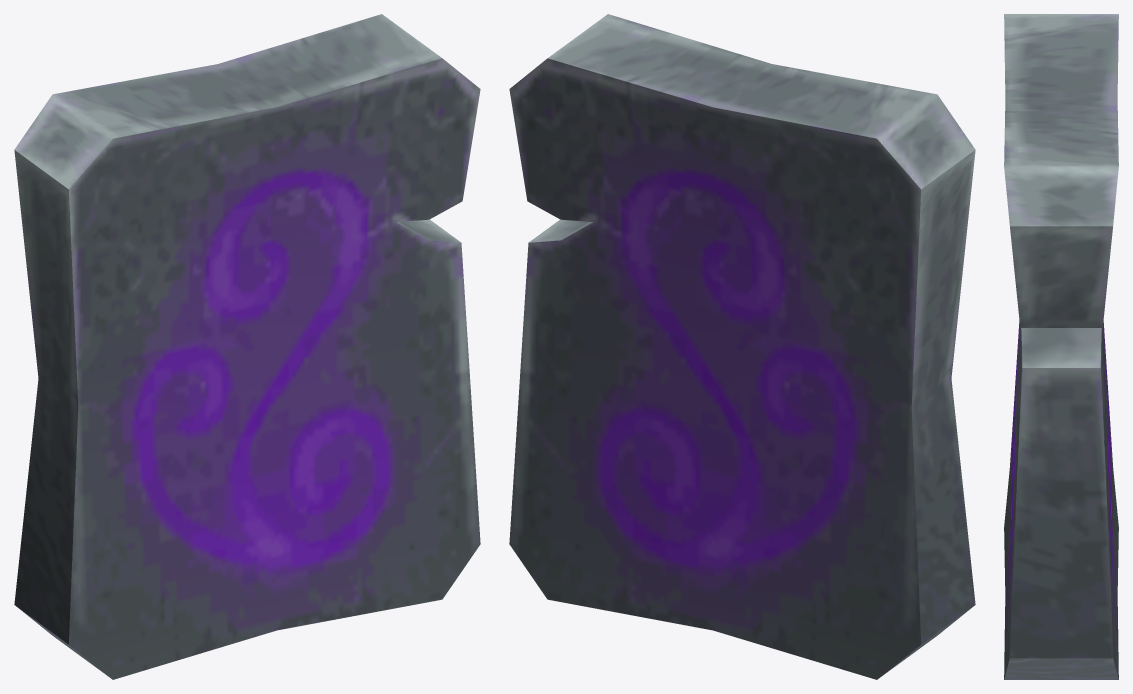
File: stemple_purple_glyph_a901f36c.glb
3 renders of one model, left to right at view 1: azimuth 30°, elevation 25°; view 2: azimuth 150°, elevation 25°; view 3: azimuth 270°, elevation 25°, orthographic. The views are drawn at different scales.
Size of the model in its own units: 0.5859 by 0.7361 by 0.1492.
Materials: 1 (1 with a texture image).
